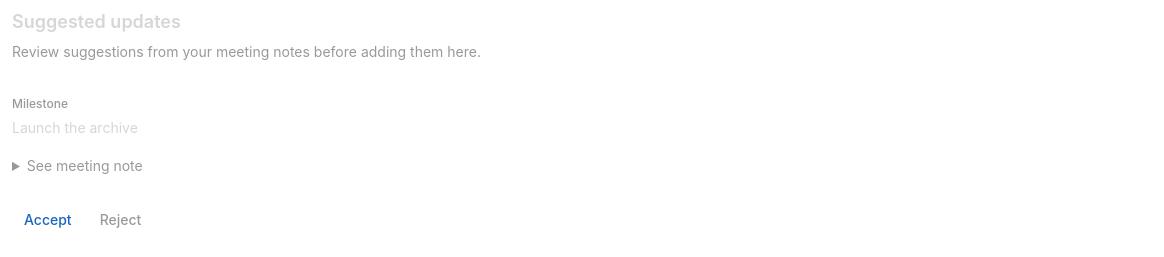
Test: shows a truthful not_pending decision result
Click the button "Accept" at [48, 220], box [12, 200, 84, 240]
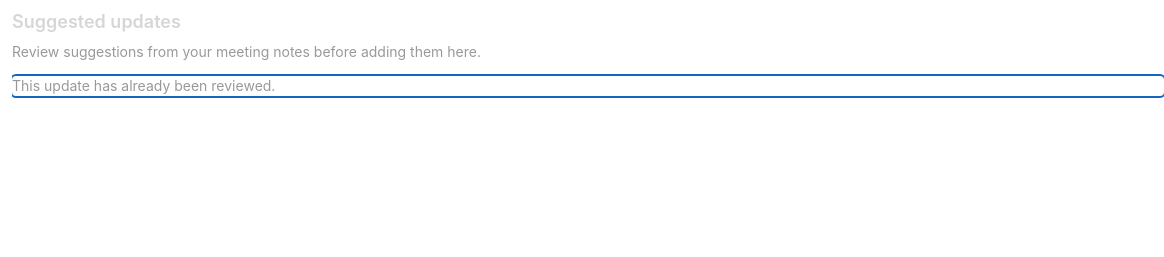
Check: the text "This update has already been reviewed." is shown, box [12, 77, 275, 94]
